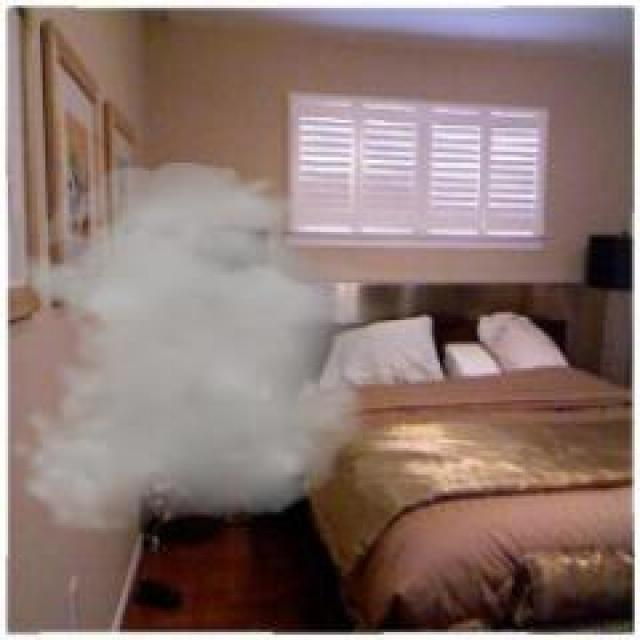Smoke: (8, 161, 422, 535)
